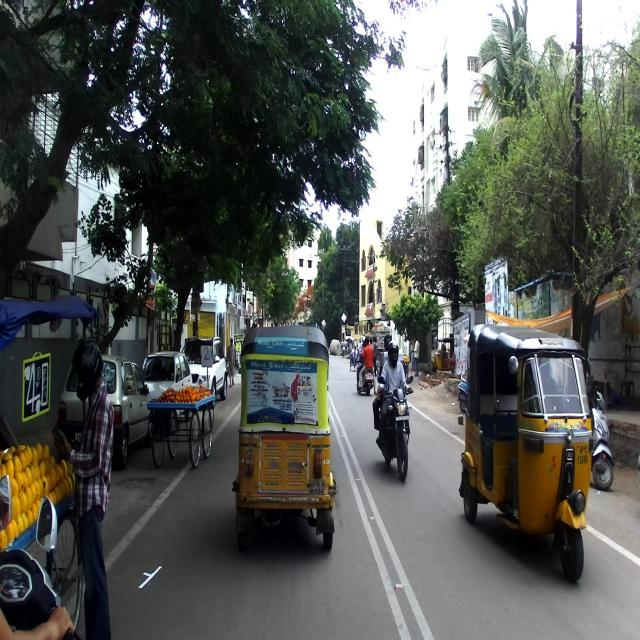Car_Maruti-Suzuki: (58, 352, 152, 470)
autorickshaw: (458, 321, 596, 582), (232, 326, 338, 550)
motorcycle: (0, 476, 80, 639)
motorcycle_Hero: (376, 370, 415, 480)
scooter: (588, 385, 614, 493)
